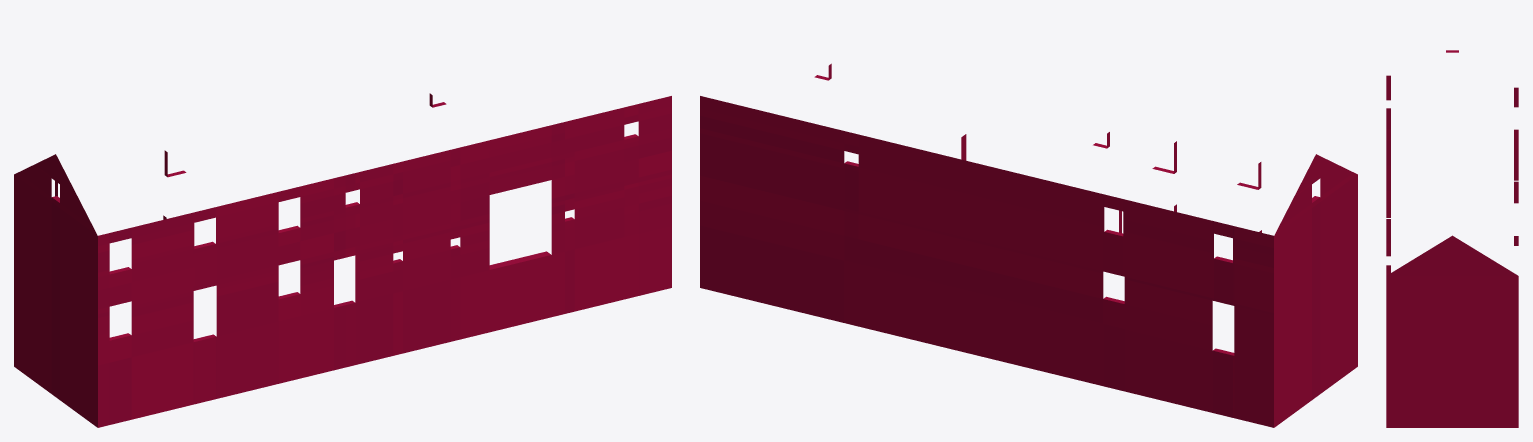
The model's file is SM_Bld_230_Masonry.glb.
The picture shows the model from 3 angles, left to right: view 1: azimuth 30°, elevation 25°; view 2: azimuth 150°, elevation 25°; view 3: azimuth 270°, elevation 25°; orthographic projection. The views are drawn at different scales.
Parts seen in each view (by area): view 1: SM_Bld_230_Masonry; view 2: SM_Bld_230_Masonry; view 3: SM_Bld_230_Masonry.
Part boxes in pixels (x1,y1,x2,y2): SM_Bld_230_Masonry: [14, 93, 671, 427]; SM_Bld_230_Masonry: [700, 63, 1357, 427]; SM_Bld_230_Masonry: [1386, 50, 1518, 427].
Size of the model in its own units: 24.08 by 9.75 by 6.09.
